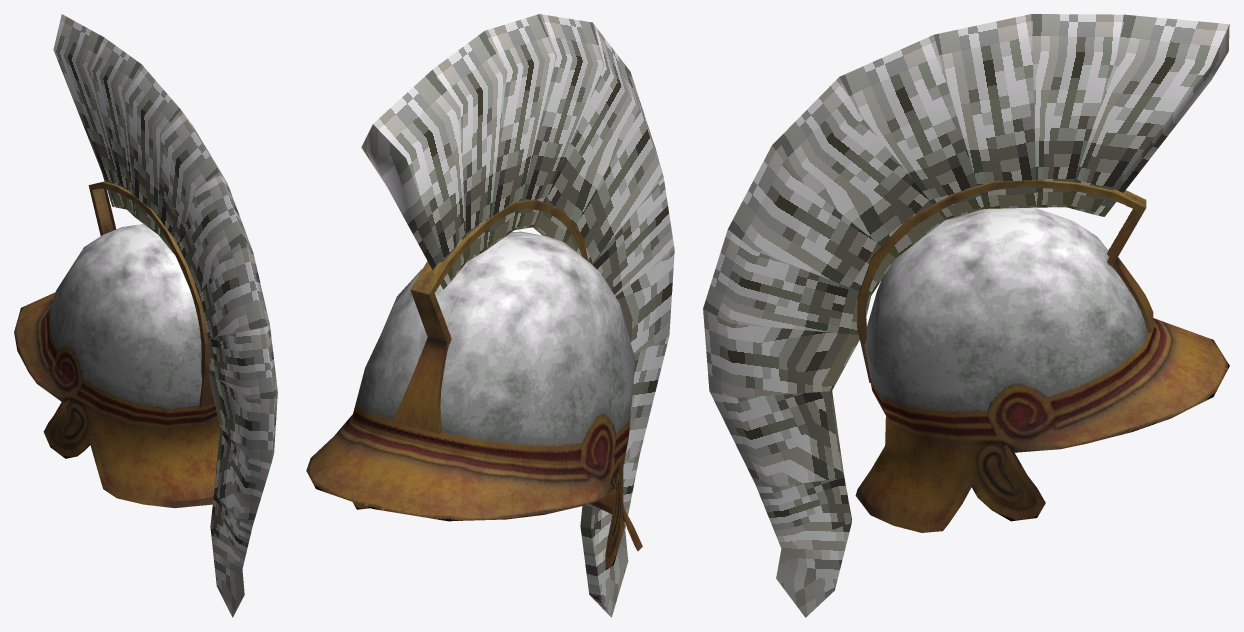
Rendered from helm_hele_thracian_p3_crested.glb.
The picture shows the model from 3 angles, left to right: view 1: azimuth 30°, elevation 25°; view 2: azimuth 150°, elevation 25°; view 3: azimuth 270°, elevation 25°; orthographic projection. The views are drawn at different scales.
Parts seen in each view (by area): view 1: helm_hele_thracian_p3_crested_part2, helm_hele_thracian_p3_crested_part0, helm_hele_thracian_p3_crested_part1; view 2: helm_hele_thracian_p3_crested_part2, helm_hele_thracian_p3_crested_part0, helm_hele_thracian_p3_crested_part1; view 3: helm_hele_thracian_p3_crested_part2, helm_hele_thracian_p3_crested_part0, helm_hele_thracian_p3_crested_part1.
Part boxes in pixels (x1,y1,x2,y2): helm_hele_thracian_p3_crested_part2: (53, 14, 277, 617); helm_hele_thracian_p3_crested_part0: (14, 224, 219, 508); helm_hele_thracian_p3_crested_part1: (88, 181, 214, 407); helm_hele_thracian_p3_crested_part2: (361, 14, 674, 617); helm_hele_thracian_p3_crested_part0: (306, 231, 642, 569); helm_hele_thracian_p3_crested_part1: (393, 199, 588, 433); helm_hele_thracian_p3_crested_part2: (703, 14, 1229, 617); helm_hele_thracian_p3_crested_part0: (855, 207, 1229, 532); helm_hele_thracian_p3_crested_part1: (857, 180, 1153, 382).
Bounding box in the file's own units: 0.5072 × 1.27 × 1.
3 materials, 3 textured.
